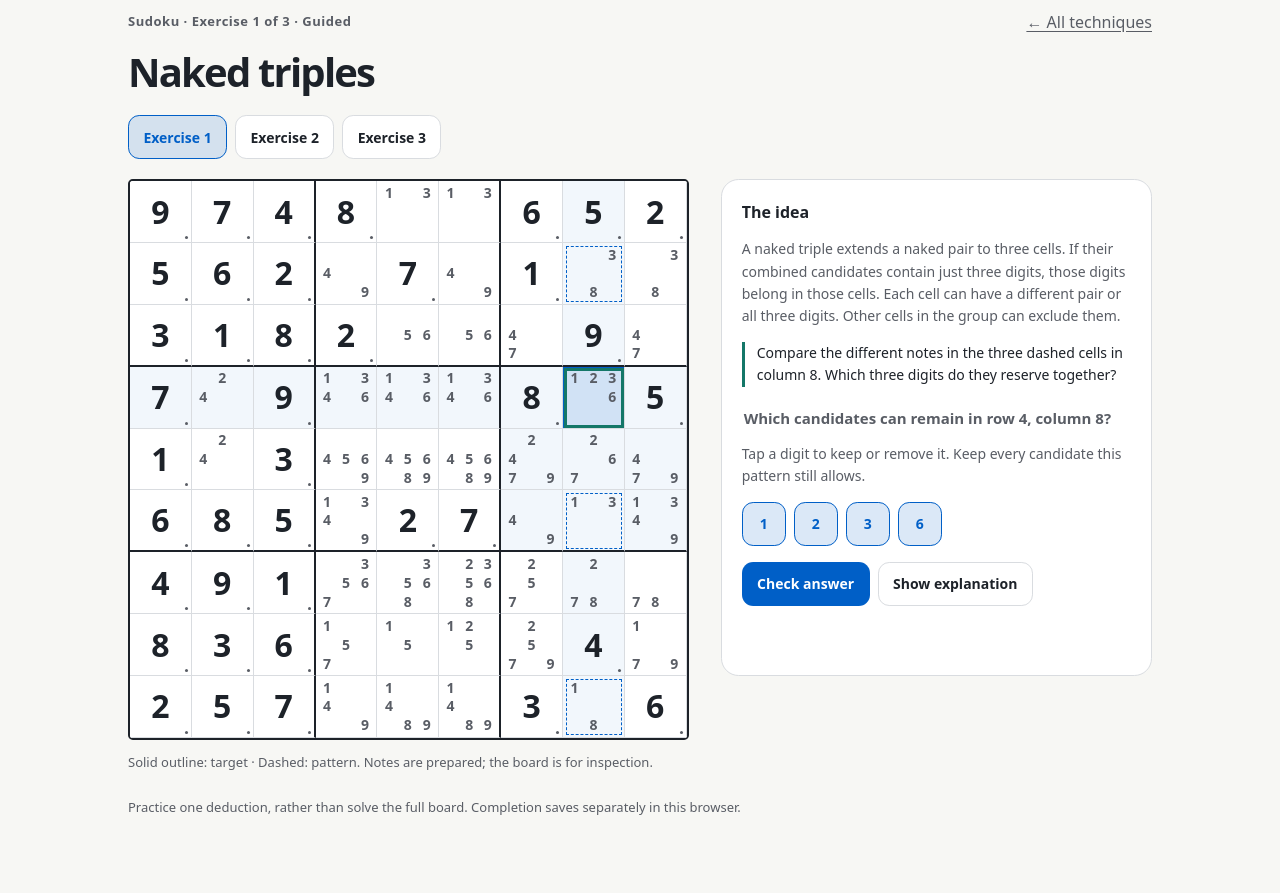
Scenario: lets learners reveal, retry and complete naked-triples with its full pattern visible
The image size is (1280, 893).
Click the button "Show explanation".
click(955, 584)  # box [878, 562, 1033, 606]
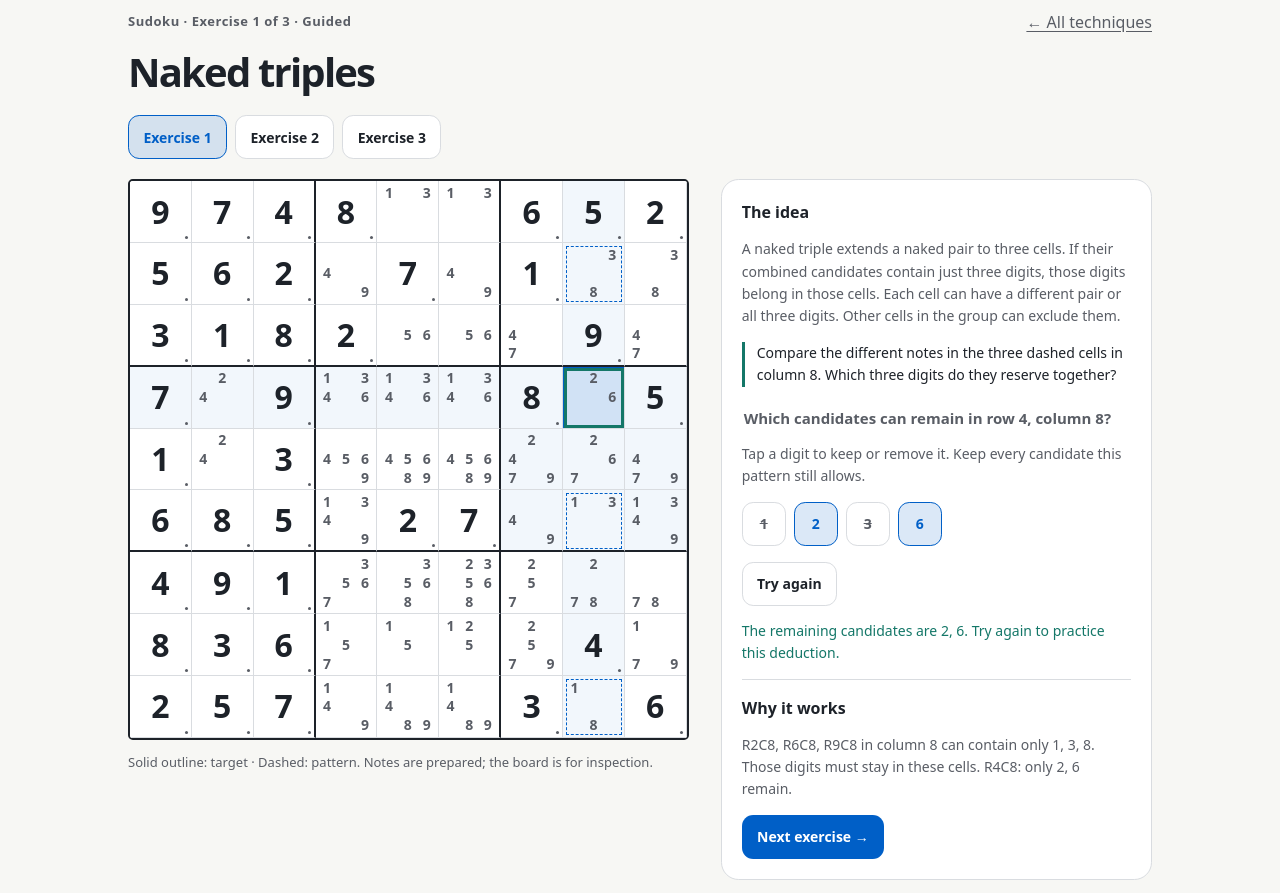
Check: the message "The remaining candidates are 2, 6. Try again to practice this deduction." is shown, box [742, 620, 1131, 665]
Check: the button "Try again" is shown
Click the button "Try again".
click(789, 584)  # box [742, 562, 837, 606]
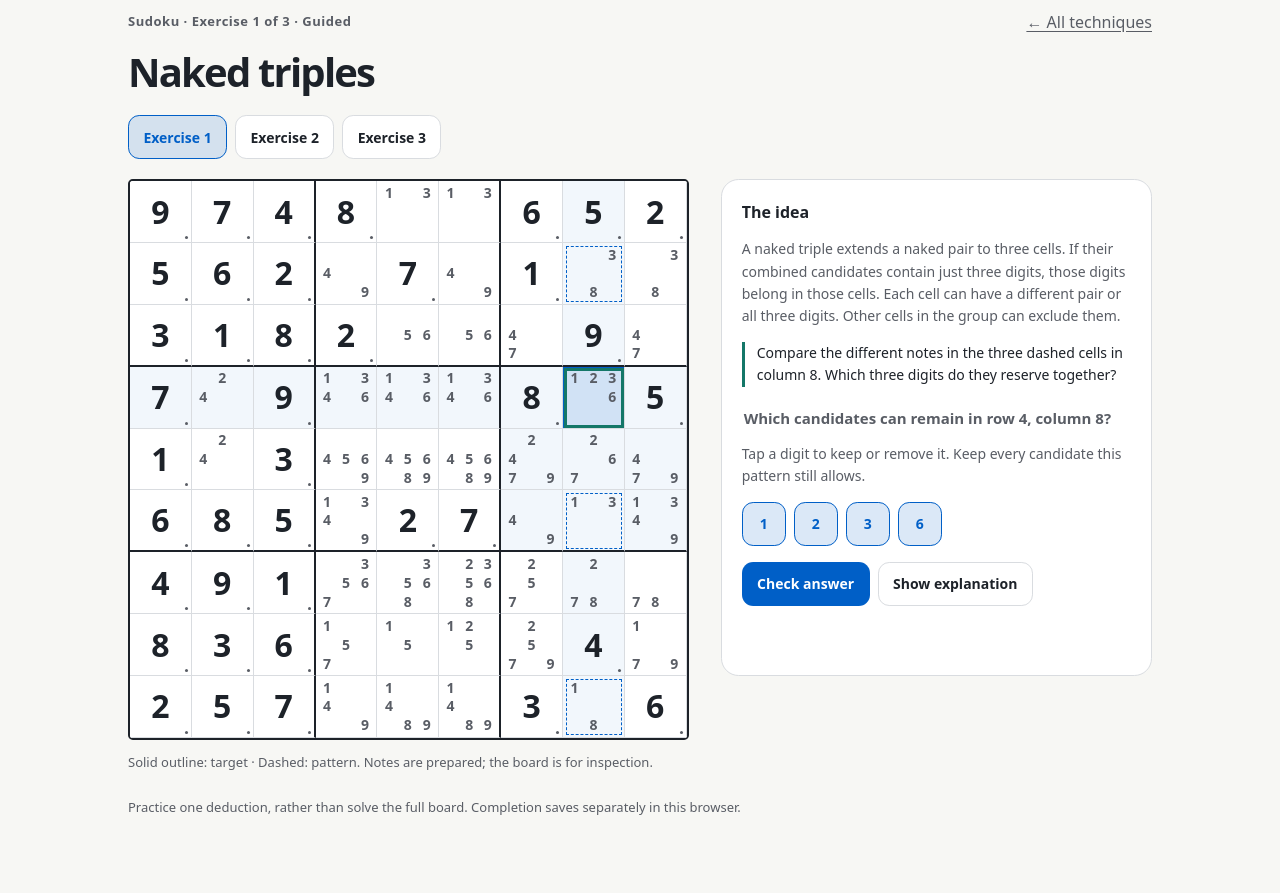
Check: the button "Check answer" is shown
Click the button "Check answer".
click(806, 584)  # box [742, 562, 870, 606]
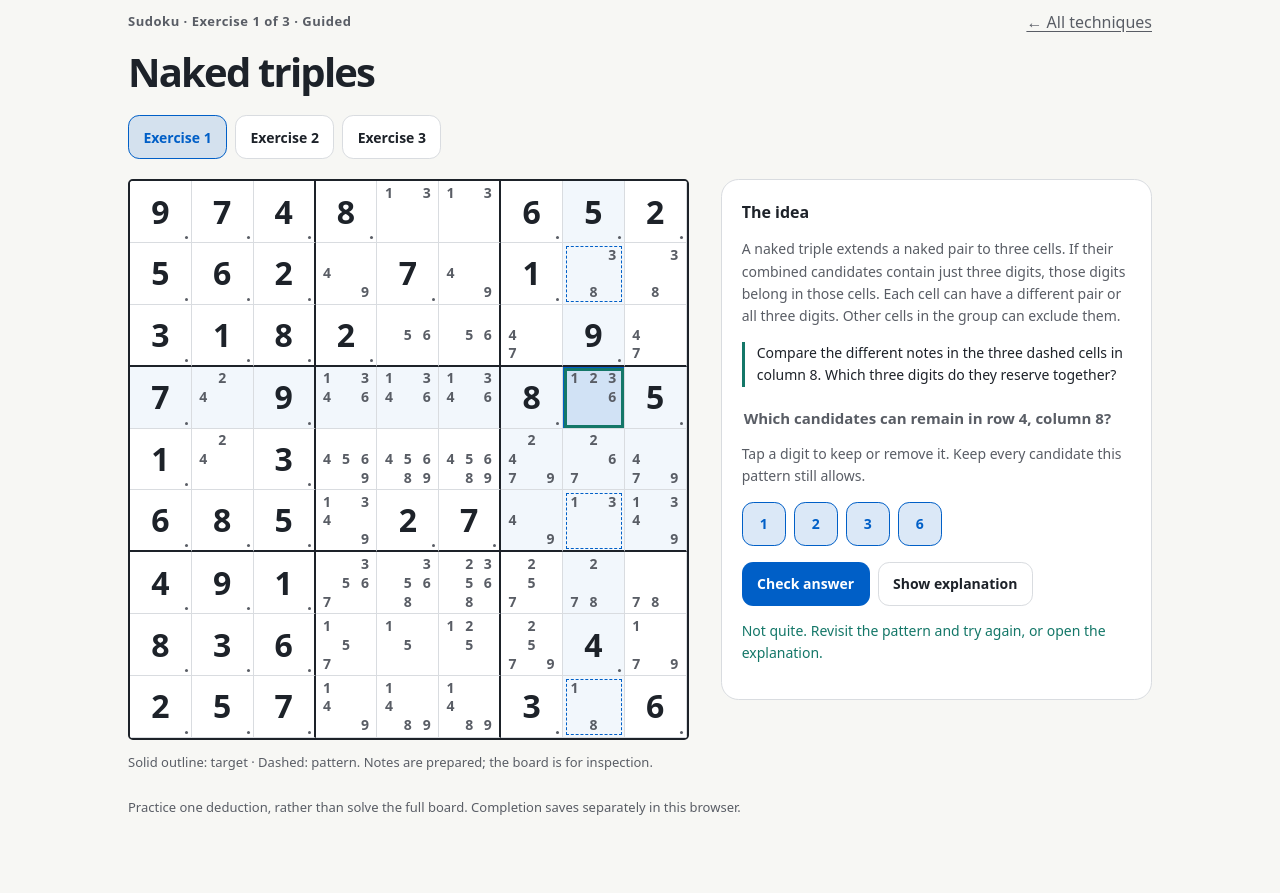
Check: the message "Not quite. Revisit the pattern and try again, or open the explanation." is shown, box [742, 620, 1131, 665]
Click the button "1".
click(764, 524)  # box [742, 502, 786, 546]
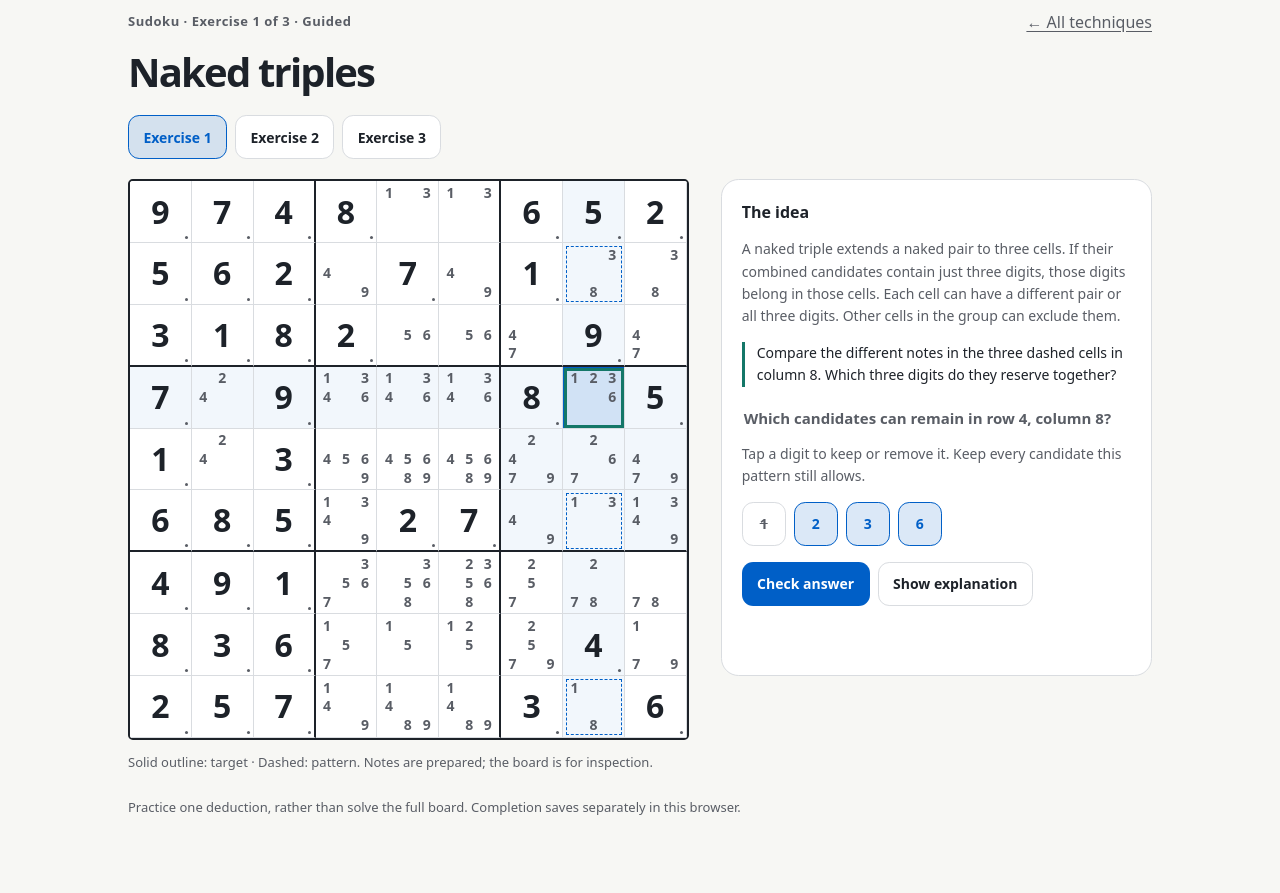
Click the button "3".
click(868, 524)  # box [846, 502, 890, 546]
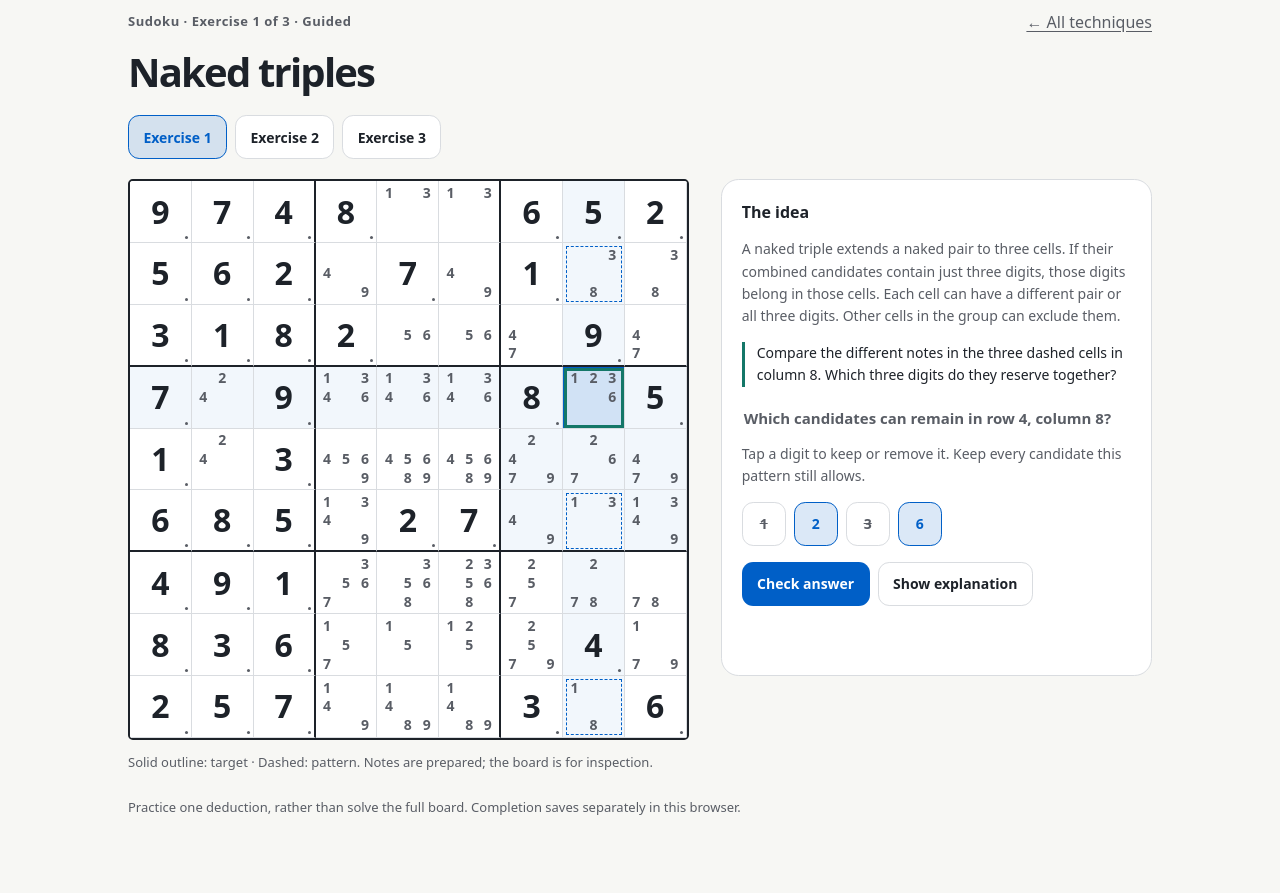
Check: the button "Check answer" is shown
Click the button "Check answer".
click(806, 584)  # box [742, 562, 870, 606]
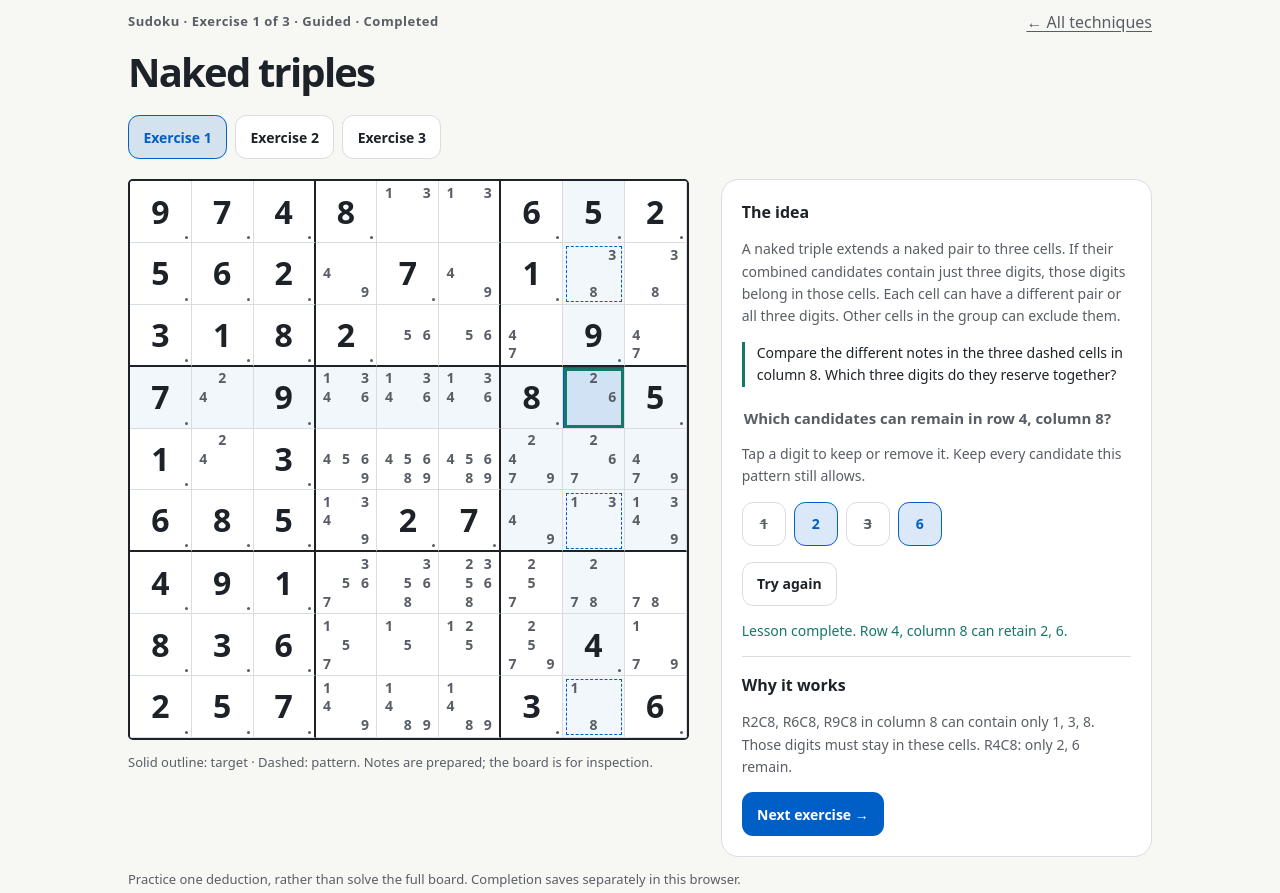
Check: the message "Lesson complete. Row 4, column 8 can retain 2, 6." is shown, box [742, 621, 1068, 640]
